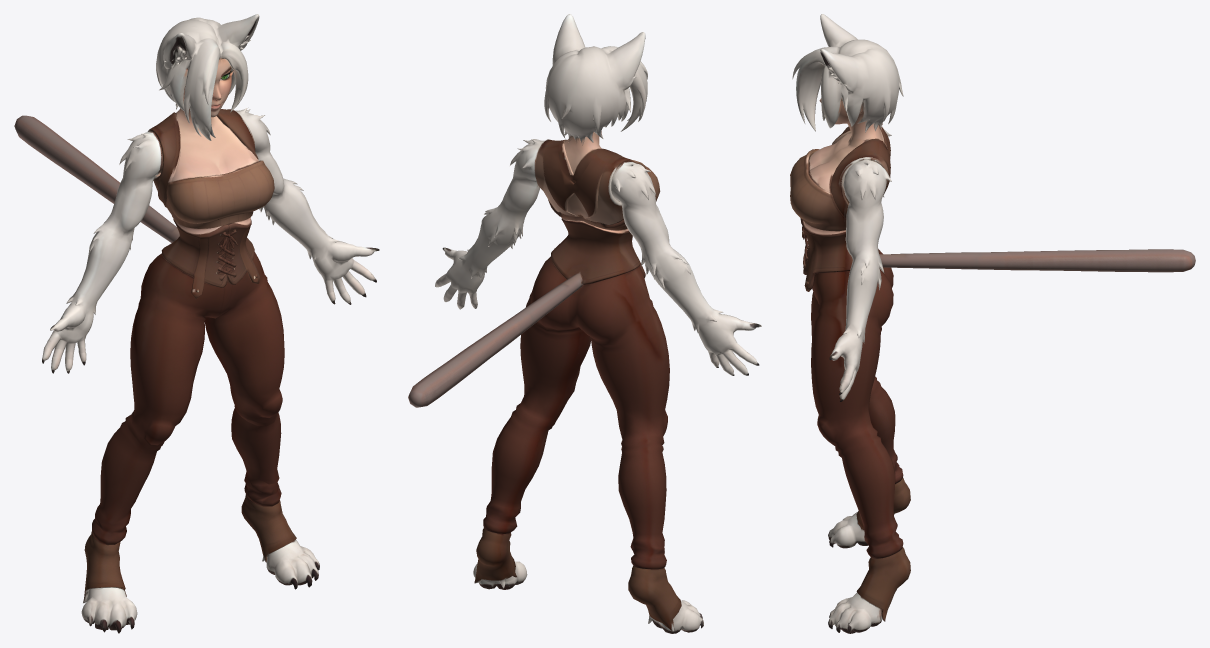
File: wolf_scout_body_textured.fbx
3 renders of one model, left to right at view 1: azimuth 30°, elevation 25°; view 2: azimuth 150°, elevation 25°; view 3: azimuth 270°, elevation 25°, orthographic. The views are drawn at different scales.
Parts seen in each view (by area): view 1: tripo_0fe220d2_95aa_42ee_81ed_5e0ffc60445f; view 2: tripo_0fe220d2_95aa_42ee_81ed_5e0ffc60445f; view 3: tripo_0fe220d2_95aa_42ee_81ed_5e0ffc60445f.
Part boxes in pixels (left/top/right/bottom): tripo_0fe220d2_95aa_42ee_81ed_5e0ffc60445f: left=14, top=14, right=379, bottom=633; tripo_0fe220d2_95aa_42ee_81ed_5e0ffc60445f: left=408, top=14, right=761, bottom=633; tripo_0fe220d2_95aa_42ee_81ed_5e0ffc60445f: left=790, top=14, right=1195, bottom=633.
Size of the model in its own units: 0.5913 by 0.9995 by 0.6626.
1 material, 1 textured.
